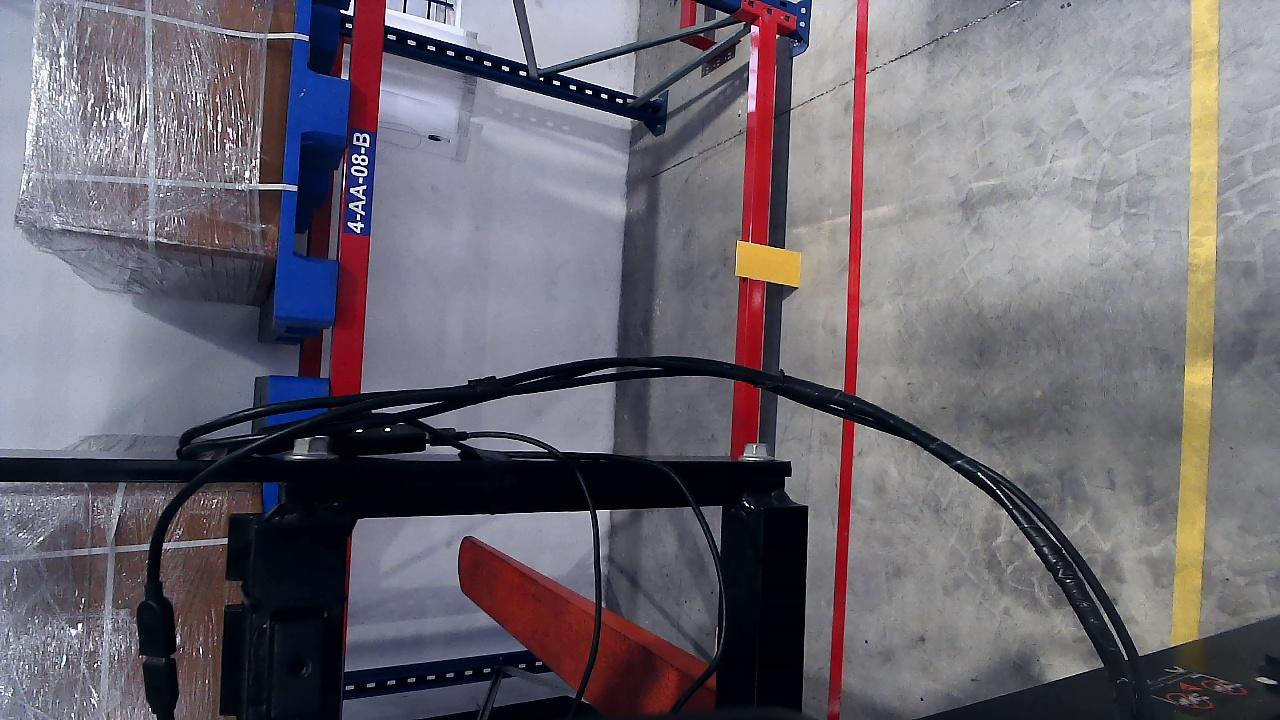h_rack: (330, 1, 388, 394), (742, 17, 780, 353)
orange_strip: (735, 241, 801, 287)
red_line: (843, 2, 868, 393), (825, 417, 857, 714)
small_pallet: (270, 0, 363, 316)
yellow_line: (1172, 66, 1221, 653)
